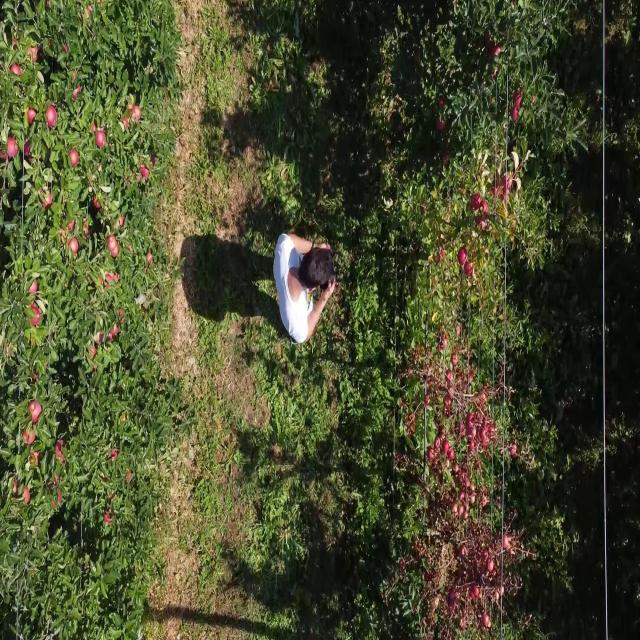apple: (32, 405, 43, 427), (56, 440, 67, 462), (52, 490, 63, 512), (24, 426, 36, 446), (108, 241, 120, 260), (48, 106, 57, 128), (32, 305, 41, 327), (68, 241, 80, 256), (72, 149, 80, 171), (44, 191, 52, 212), (28, 284, 39, 299), (104, 511, 115, 526), (24, 142, 32, 162), (8, 142, 19, 156), (96, 135, 107, 149), (32, 447, 40, 466), (104, 277, 114, 292), (436, 120, 447, 133), (84, 220, 91, 240), (460, 248, 468, 265), (56, 490, 64, 507), (24, 490, 32, 505), (68, 220, 76, 235), (12, 63, 20, 78), (52, 476, 60, 491), (92, 199, 100, 213), (32, 49, 39, 64), (92, 120, 99, 135), (516, 92, 523, 107), (32, 369, 39, 384), (28, 113, 36, 126), (472, 199, 480, 212), (480, 220, 488, 233), (44, 149, 52, 162), (140, 170, 150, 180), (112, 327, 119, 340), (440, 248, 447, 261), (444, 156, 451, 169), (136, 106, 142, 121), (60, 227, 65, 245), (96, 334, 104, 345), (44, 0, 52, 9), (468, 263, 473, 277), (484, 199, 488, 215), (512, 113, 519, 121), (152, 156, 156, 169), (128, 106, 133, 116), (92, 348, 96, 359), (4, 151, 8, 162), (124, 120, 129, 128), (120, 220, 124, 228), (112, 455, 116, 462)
